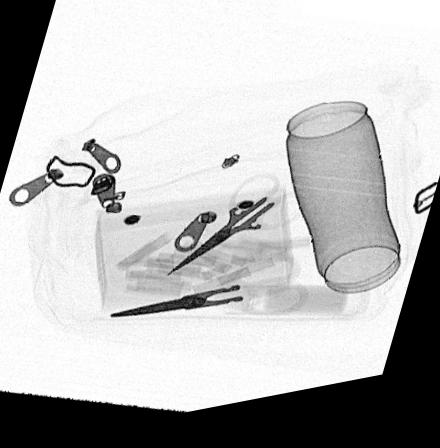Scissors: (166, 183, 305, 282), (107, 265, 308, 326)
